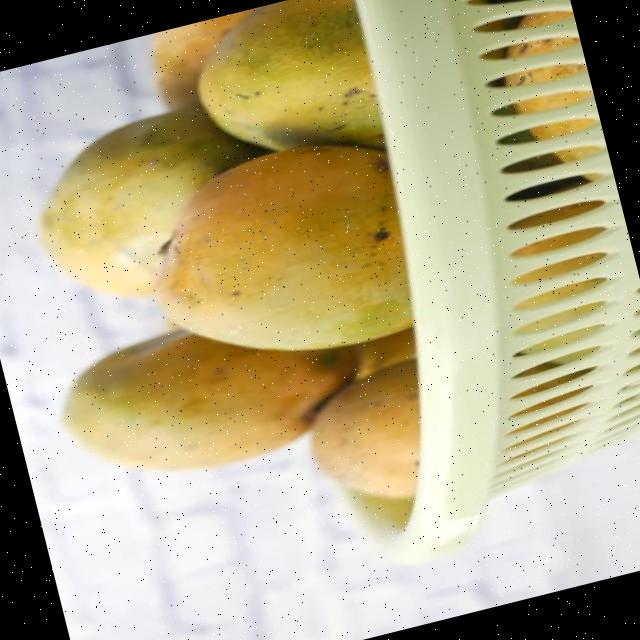mango: (156, 145, 412, 349), (40, 105, 262, 296), (62, 329, 357, 469), (197, 0, 383, 149), (310, 360, 419, 497)
